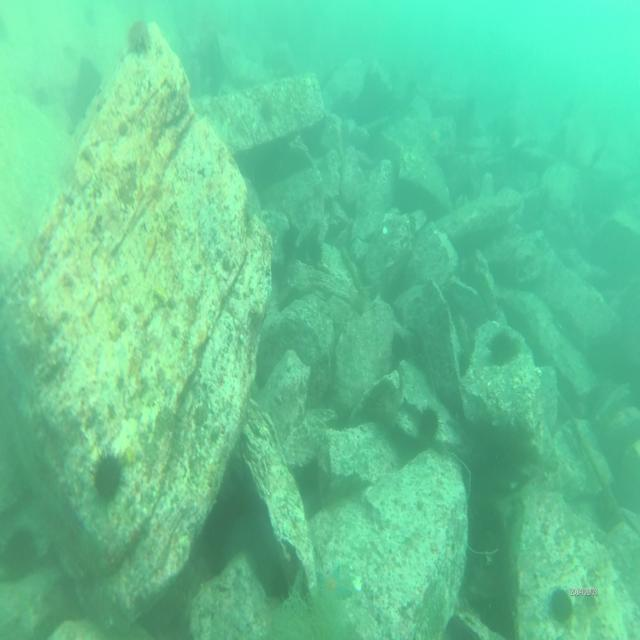echinus: (90, 448, 129, 512), (0, 524, 39, 578), (487, 327, 523, 367), (548, 586, 575, 624), (417, 399, 438, 447), (304, 233, 326, 270)
starfish: (313, 562, 353, 617)
